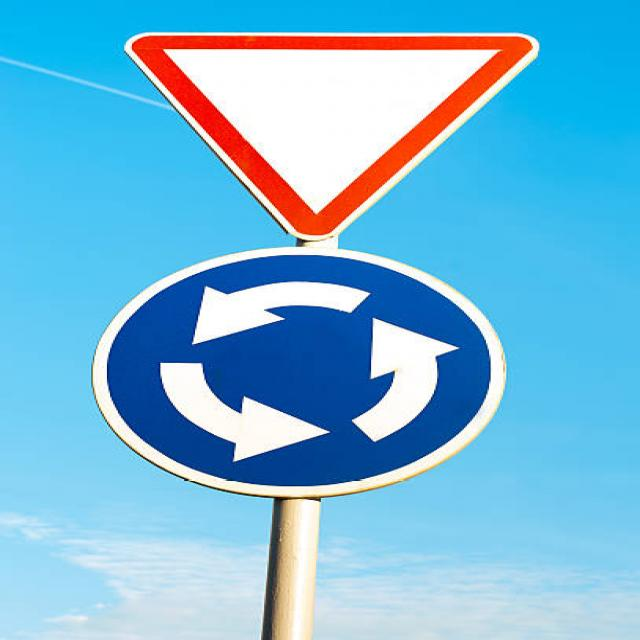give_way: (113, 26, 565, 243)
